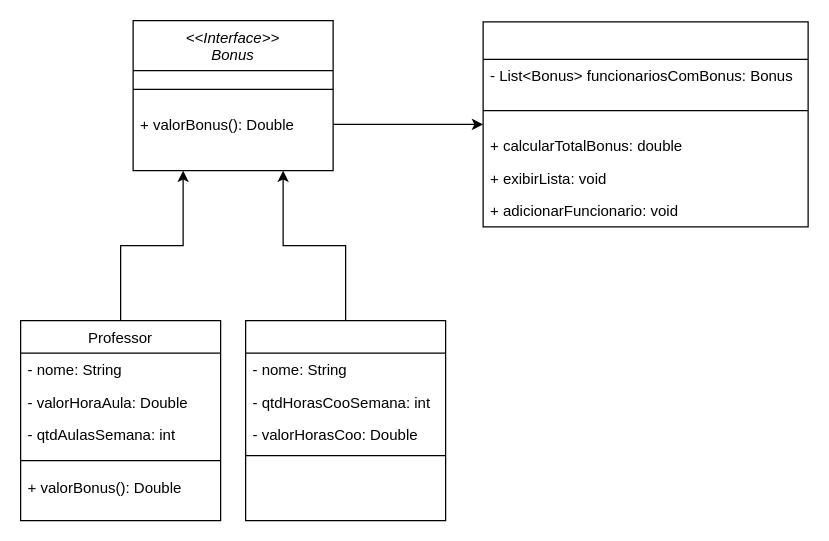
This 829x541 diagram has some shape labels left out. The box of each missing label's shape, as (x1, y1, x2, y2) in pixels:
ControleBonus: (482, 21, 808, 227)
Coordenador: (244, 319, 446, 521)
